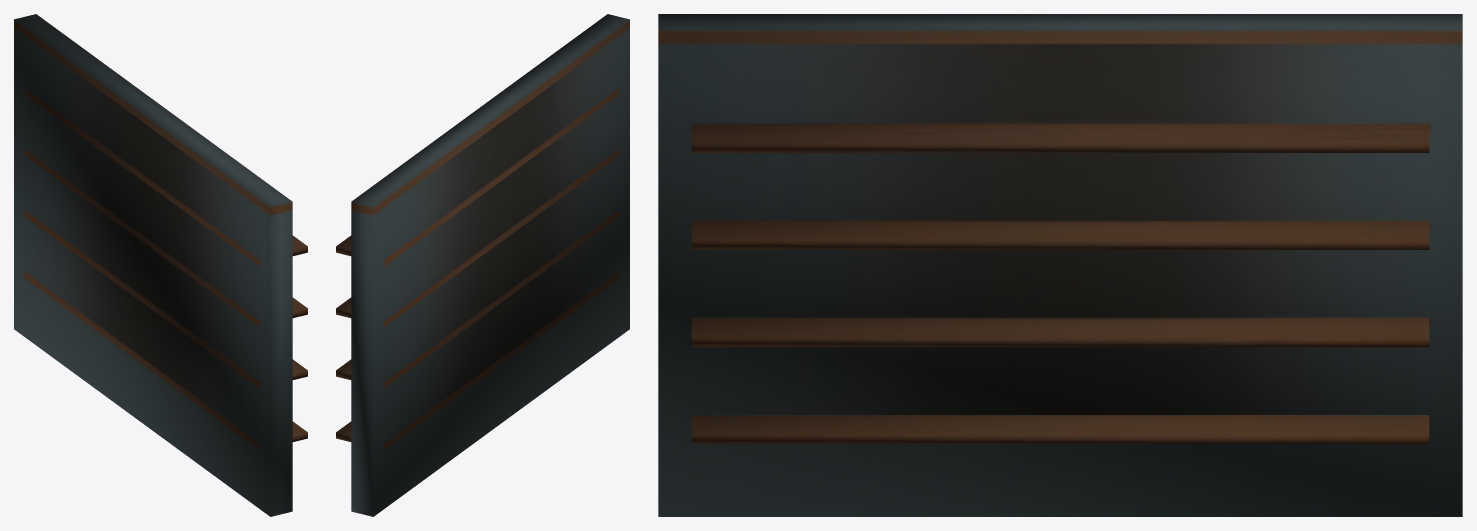
Rendered from station-shelving-tripo-original.glb.
3 views of the same model, side by side, from view 1: azimuth 30°, elevation 25°; view 2: azimuth 150°, elevation 25°; view 3: azimuth 270°, elevation 25° (orthographic). The views are drawn at different scales.
Parts seen in each view (by area): view 1: Authored_surface_029; view 2: Authored_surface_029; view 3: Authored_surface_029.
Boxes of the visible parts, x1=… form: Authored_surface_029: x1=14, y1=14, x2=307, y2=516; Authored_surface_029: x1=336, y1=14, x2=629, y2=516; Authored_surface_029: x1=658, y1=14, x2=1462, y2=516.
Bounding box in the file's own units: 0.1083 × 0.6667 × 1.
1 material, 1 textured.
